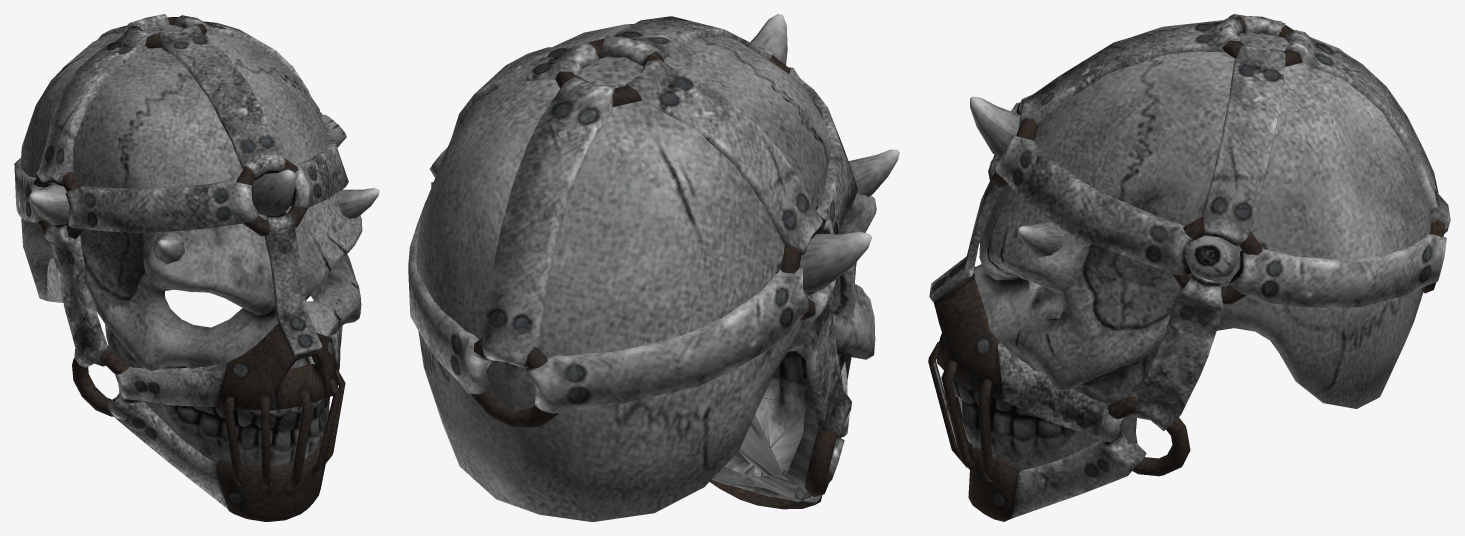
Rendered from SurvivorMale_Head_Mask_SkullHorns_LOD0.glb.
3 views of the same model, side by side, from view 1: azimuth 30°, elevation 25°; view 2: azimuth 150°, elevation 25°; view 3: azimuth 270°, elevation 25° (orthographic). The views are drawn at different scales.
Parts seen in each view (by area): view 1: Hoodie; view 2: Hoodie; view 3: Hoodie.
Boxes of the visible parts, <box> form: Hoodie: <box>14,14,379,521</box>; Hoodie: <box>408,14,899,521</box>; Hoodie: <box>928,14,1450,521</box>.
Bounding box in the file's own units: 0.2126 × 0.2674 × 0.2604.
Materials: 1 (1 with a texture image).
